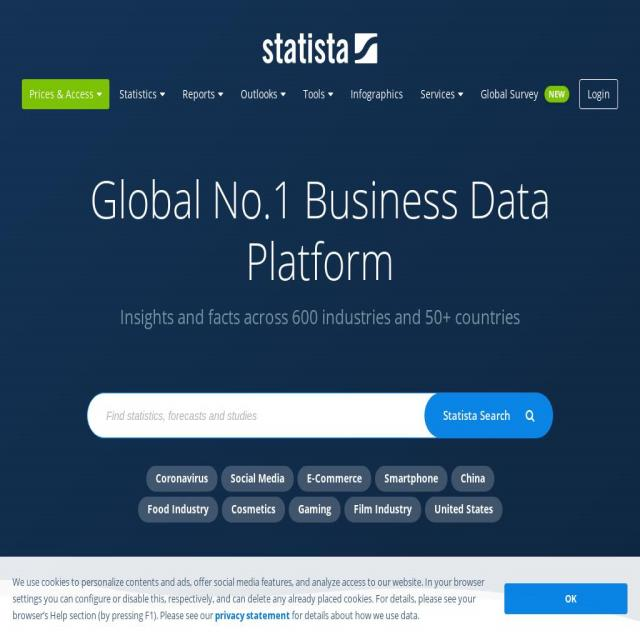button: (424, 392, 554, 438), (504, 583, 628, 614), (262, 34, 378, 64), (473, 79, 577, 109), (22, 79, 109, 109), (138, 496, 218, 522), (424, 496, 502, 522), (344, 496, 421, 522), (220, 465, 294, 492), (297, 465, 371, 492), (374, 465, 448, 492), (146, 465, 218, 492), (231, 79, 291, 109), (112, 79, 172, 109), (413, 79, 471, 109), (175, 79, 231, 109), (221, 496, 285, 522), (291, 78, 341, 110), (351, 79, 403, 109), (288, 496, 341, 522), (450, 465, 494, 492), (580, 79, 618, 109)
field: (87, 392, 433, 438)
